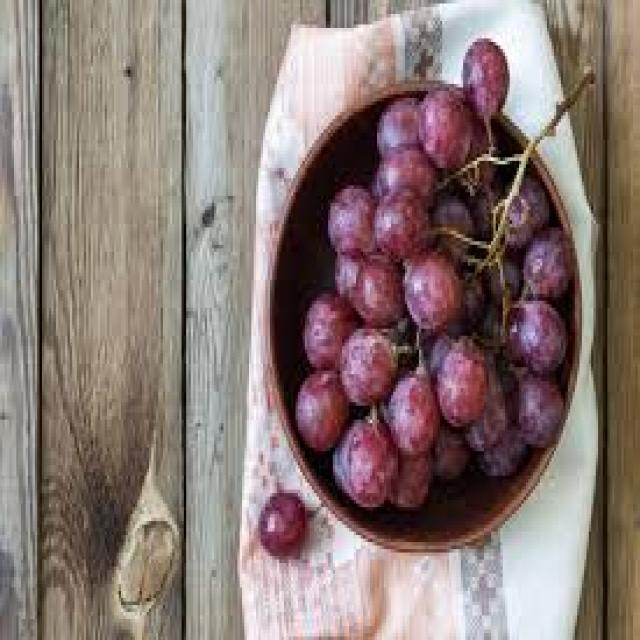organic waste: (505, 290, 566, 371), (384, 360, 440, 448), (461, 346, 507, 448), (475, 388, 526, 479), (340, 412, 391, 503), (349, 245, 407, 325), (400, 245, 456, 325), (291, 364, 347, 444), (340, 325, 393, 409), (414, 84, 468, 164), (433, 339, 484, 423), (301, 290, 358, 364), (512, 367, 566, 444), (370, 186, 428, 256), (461, 31, 507, 119), (519, 224, 570, 294), (326, 178, 370, 256), (256, 486, 305, 556), (370, 143, 433, 196), (384, 441, 431, 507), (430, 185, 472, 252), (372, 91, 417, 147), (449, 259, 482, 332), (461, 122, 498, 182), (484, 245, 519, 308), (431, 416, 470, 472), (491, 189, 526, 248), (514, 168, 547, 224), (407, 325, 454, 364), (333, 245, 365, 294), (474, 185, 496, 231), (330, 427, 347, 482)
